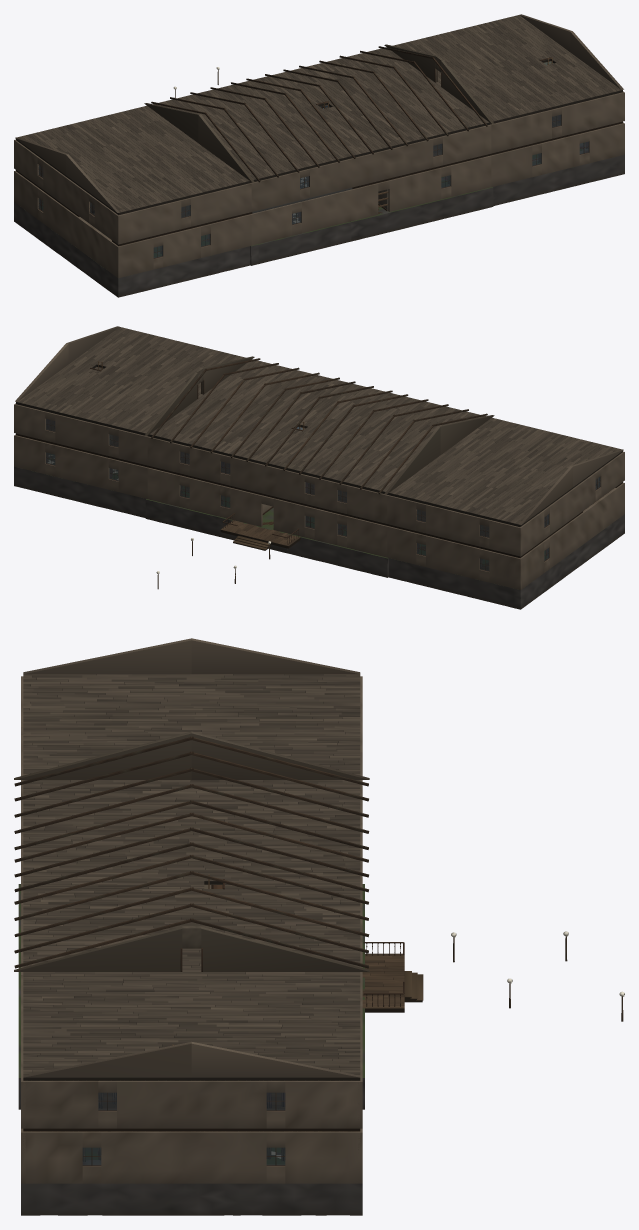
The model's file is FarmhouseStructure.glb.
3 renders of one model, top to bottom at view 1: azimuth 30°, elevation 25°; view 2: azimuth 150°, elevation 25°; view 3: azimuth 270°, elevation 25°, orthographic. The views are drawn at different scales.
Visible parts, largest first — view 1: FarmhouseStructure_hs_plaster, FarmhouseStructure_hs_floor_3, FarmhouseStructure_hs_floor, FarmhouseStructure_hs_floor_2, FarmhouseStructure_hs_stone, FarmhouseStructure_hs_floor_4, FarmhouseStructure_hs_beam, FarmhouseStructure_hs_wood, FarmhouseStructure_hs_wood_2, FarmhouseStructure_hs_glass, FarmhouseStructure_hs_beam_2; view 2: FarmhouseStructure_hs_plaster, FarmhouseStructure_hs_floor_3, FarmhouseStructure_hs_floor_2, FarmhouseStructure_hs_floor, FarmhouseStructure_hs_stone, FarmhouseStructure_hs_floor_4, FarmhouseStructure_hs_beam, FarmhouseStructure_hs_wood_2, FarmhouseStructure_hs_wood, FarmhouseStructure_hs_glass, FarmhouseStructure_hs_beam_2; view 3: FarmhouseStructure_hs_plaster, FarmhouseStructure_hs_floor_3, FarmhouseStructure_hs_floor_2, FarmhouseStructure_hs_floor, FarmhouseStructure_hs_beam, FarmhouseStructure_hs_stone, FarmhouseStructure_hs_floor_4, FarmhouseStructure_hs_wood_2, FarmhouseStructure_hs_wood, FarmhouseStructure_hs_beam_2, FarmhouseStructure_hs_glass.
Boxes of the visible parts, <box> form: FarmhouseStructure_hs_plaster: <box>14,14,624,278</box>; FarmhouseStructure_hs_floor_3: <box>283,29,622,179</box>; FarmhouseStructure_hs_floor: <box>16,102,265,246</box>; FarmhouseStructure_hs_floor_2: <box>163,72,415,213</box>; FarmhouseStructure_hs_stone: <box>14,149,624,297</box>; FarmhouseStructure_hs_floor_4: <box>461,15,622,132</box>; FarmhouseStructure_hs_beam: <box>151,60,428,182</box>; FarmhouseStructure_hs_wood: <box>38,103,388,258</box>; FarmhouseStructure_hs_wood_2: <box>316,44,588,210</box>; FarmhouseStructure_hs_glass: <box>38,114,588,258</box>; FarmhouseStructure_hs_beam_2: <box>339,46,487,136</box>; FarmhouseStructure_hs_plaster: <box>14,326,624,590</box>; FarmhouseStructure_hs_floor_3: <box>16,334,325,534</box>; FarmhouseStructure_hs_floor_2: <box>149,377,475,548</box>; FarmhouseStructure_hs_floor: <box>373,414,622,570</box>; FarmhouseStructure_hs_stone: <box>14,454,624,609</box>; FarmhouseStructure_hs_floor_4: <box>16,327,165,451</box>; FarmhouseStructure_hs_beam: <box>157,372,487,589</box>; FarmhouseStructure_hs_wood_2: <box>46,356,304,550</box>; FarmhouseStructure_hs_wood: <box>272,415,609,571</box>; FarmhouseStructure_hs_glass: <box>46,419,600,571</box>; FarmhouseStructure_hs_beam_2: <box>151,358,299,448</box>; FarmhouseStructure_hs_plaster: <box>21,638,362,1183</box>; FarmhouseStructure_hs_floor_3: <box>23,887,404,1131</box>; FarmhouseStructure_hs_floor_2: <box>23,781,404,1012</box>; FarmhouseStructure_hs_floor: <box>23,674,360,790</box>; FarmhouseStructure_hs_beam: <box>14,736,623,1021</box>; FarmhouseStructure_hs_stone: <box>18,884,364,1215</box>; FarmhouseStructure_hs_floor_4: <box>23,1029,360,1131</box>; FarmhouseStructure_hs_wood_2: <box>14,874,423,1166</box>; FarmhouseStructure_hs_wood: <box>14,731,404,955</box>; FarmhouseStructure_hs_beam_2: <box>14,887,369,968</box>; FarmhouseStructure_hs_glass: <box>82,1092,285,1165</box>.
Bounding box in the file's own units: 205 × 43.7 × 131.
